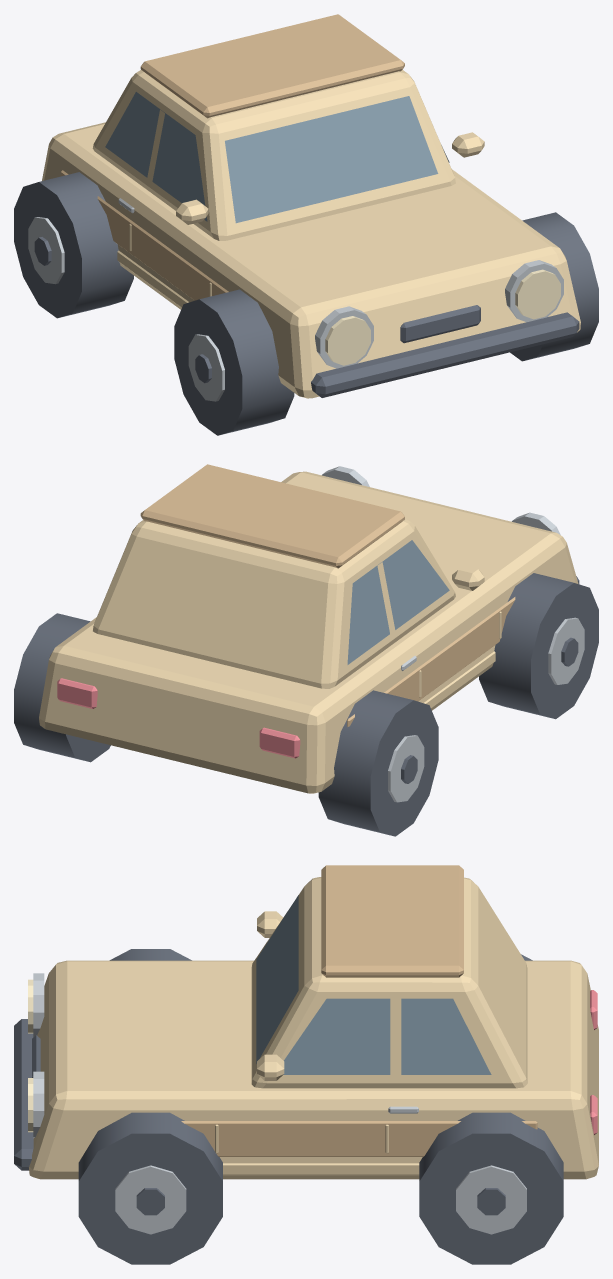
The model's file is wooden_car.glb.
3 renders of one model, top to bottom at view 1: azimuth 30°, elevation 25°; view 2: azimuth 150°, elevation 25°; view 3: azimuth 270°, elevation 25°, orthographic. The views are drawn at different scales.
Parts seen in each view (by area): view 1: wooden_car_woodlight.001, wooden_car_black, wooden_car_glass.001, wooden_car_wood.001, wooden_car_gray, wooden_car_yellow.001; view 2: wooden_car_woodlight.001, wooden_car_black, wooden_car_wood.001, wooden_car_glass.001, wooden_car_gray, wooden_car_red; view 3: wooden_car_woodlight.001, wooden_car_black, wooden_car_wood.001, wooden_car_glass.001, wooden_car_gray, wooden_car_yellow.001, wooden_car_red.
Part boxes in pixels (x1,y1,x2,y2): wooden_car_woodlight.001: (42, 70, 580, 398); wooden_car_black: (14, 172, 598, 435); wooden_car_glass.001: (105, 92, 449, 223); wooden_car_wood.001: (61, 14, 404, 300); wooden_car_gray: (28, 198, 563, 401); wooden_car_yellow.001: (325, 269, 560, 365); wooden_car_woodlight.001: (39, 471, 578, 793); wooden_car_black: (14, 573, 598, 836); wooden_car_wood.001: (140, 464, 515, 727); wooden_car_glass.001: (347, 540, 449, 664); wooden_car_gray: (322, 466, 584, 802); wooden_car_red: (57, 678, 300, 758); wooden_car_woodlight.001: (29, 877, 598, 1179); wooden_car_black: (14, 949, 563, 1264); wooden_car_wood.001: (181, 865, 537, 1156); wooden_car_glass.001: (256, 895, 491, 1074); wooden_car_gray: (33, 973, 526, 1234); wooden_car_yellow.001: (28, 979, 33, 1132); wooden_car_red: (590, 990, 597, 1134).
Size of the model in its own units: 4.12 by 2.58 by 5.32.
